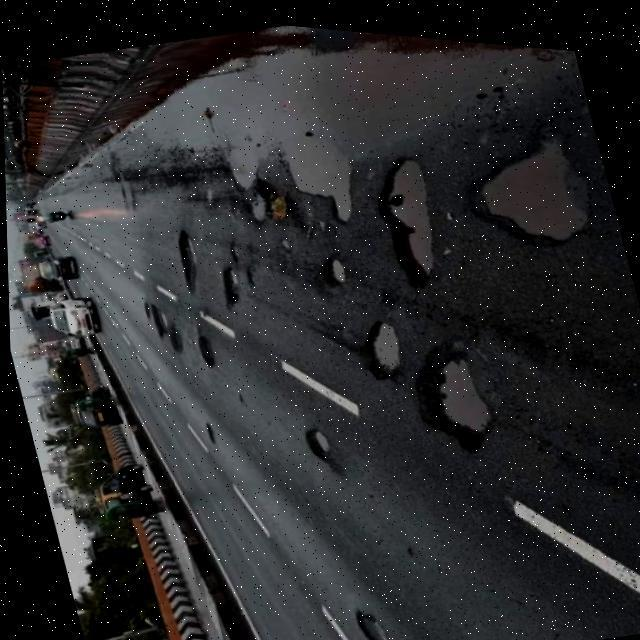pothole: (438, 96, 608, 268), (352, 138, 462, 294), (395, 328, 505, 461), (346, 306, 408, 380), (155, 218, 212, 298), (224, 162, 294, 227), (130, 286, 186, 361), (338, 588, 418, 640), (208, 252, 251, 306), (294, 416, 338, 458), (184, 326, 220, 371), (314, 244, 351, 285)
